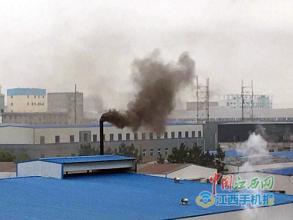smoke: (100, 58, 192, 129)
